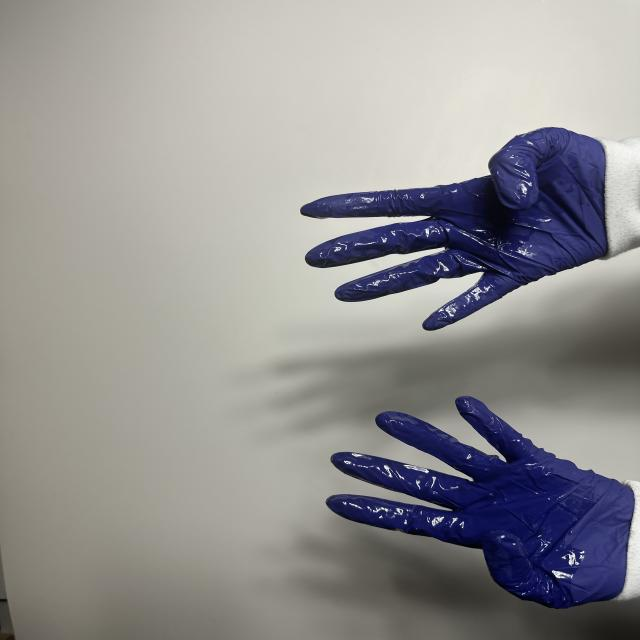gloves_contaminated: (326, 396, 634, 608), (301, 128, 607, 330)
